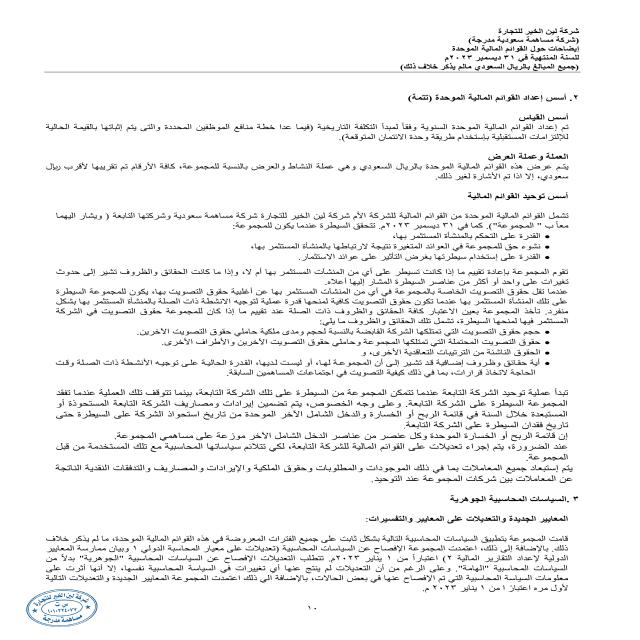notes: (434, 45, 582, 54)
text: (40, 92, 589, 592)
